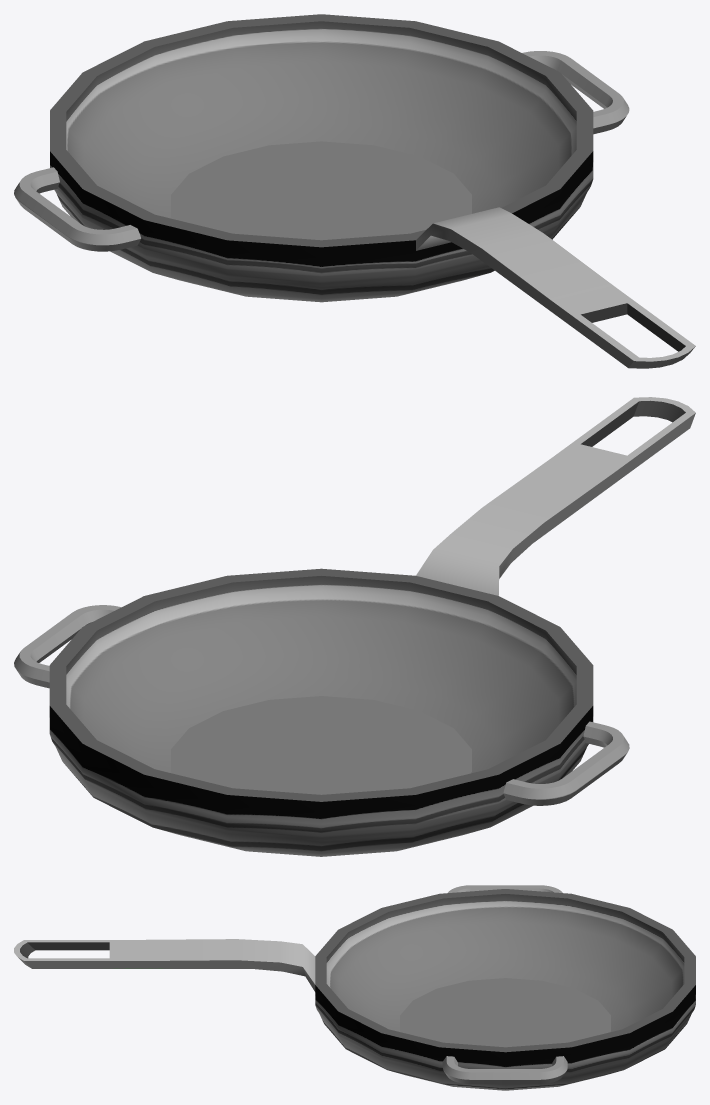
Rendered from Pan.FBX.
The picture shows the model from 3 angles, top to bottom: view 1: azimuth 30°, elevation 25°; view 2: azimuth 150°, elevation 25°; view 3: azimuth 270°, elevation 25°; orthographic projection. The views are drawn at different scales.
Visible parts, largest first — view 1: FryPan; view 2: FryPan; view 3: FryPan.
Boxes of the visible parts, box(x1,y1,x2,y2) form: FryPan: box(14, 14, 695, 368); FryPan: box(14, 397, 695, 856); FryPan: box(14, 885, 695, 1090).
Size of the model in its own units: 5927 by 1231 by 8977.
1 material, 1 textured.
